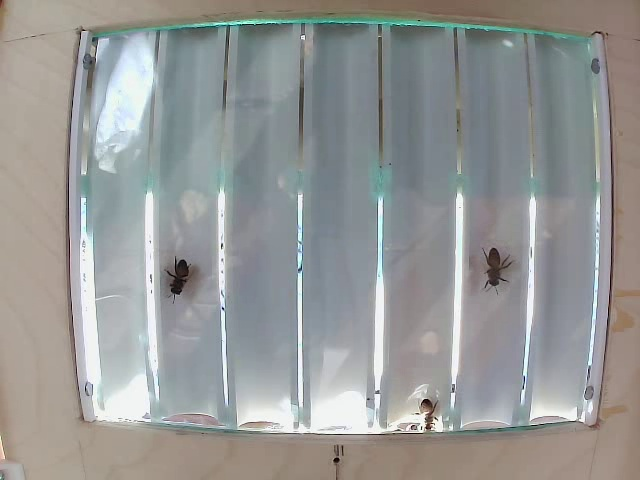bee: (153, 250, 204, 296), (411, 379, 443, 424), (475, 240, 502, 281)
